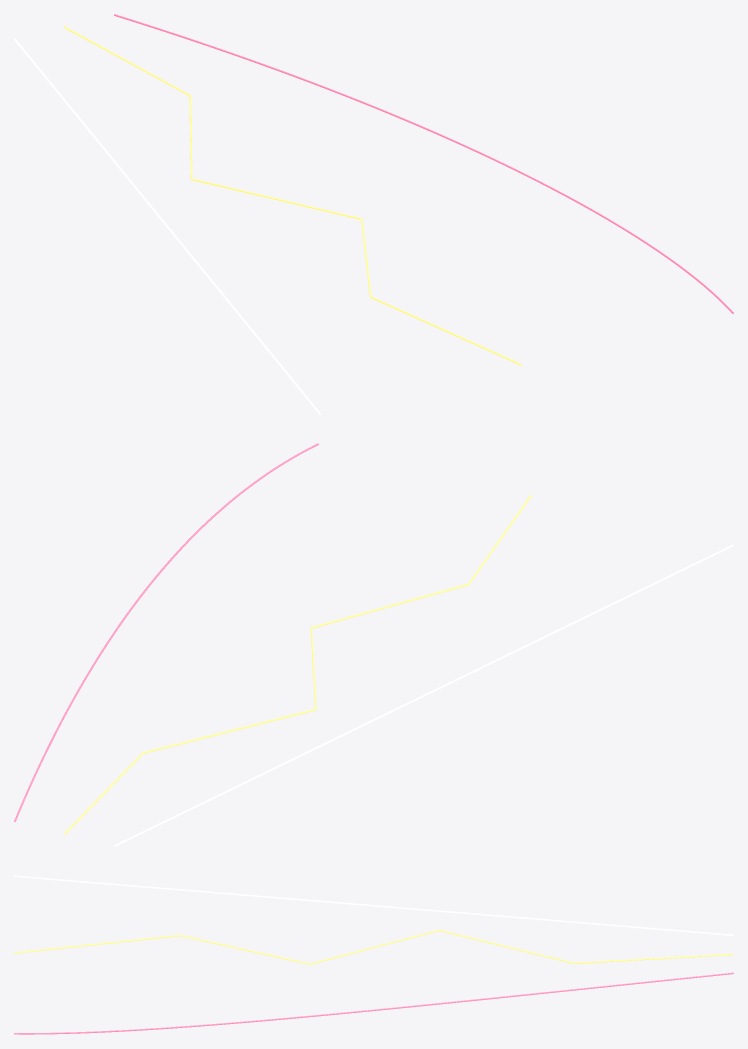
Rendered from dreamweaver-strands.glb.
3 renders of one model, top to bottom at view 1: azimuth 30°, elevation 25°; view 2: azimuth 150°, elevation 25°; view 3: azimuth 270°, elevation 25°, orthographic. The views are drawn at different scales.
Visible parts, largest first — view 1: Ambition_FILAMENT_MESH, Shadow_FILAMENT_MESH, Light_FILAMENT_MESH; view 2: Light_FILAMENT_MESH, Shadow_FILAMENT_MESH, Ambition_FILAMENT_MESH; view 3: Light_FILAMENT_MESH, Ambition_FILAMENT_MESH, Shadow_FILAMENT_MESH.
Boxes of the visible parts, left/top/right/bottom form: Ambition_FILAMENT_MESH: left=114, top=14, right=733, bottom=313; Shadow_FILAMENT_MESH: left=64, top=26, right=522, bottom=365; Light_FILAMENT_MESH: left=14, top=38, right=320, bottom=414; Light_FILAMENT_MESH: left=114, top=544, right=733, bottom=846; Shadow_FILAMENT_MESH: left=64, top=495, right=531, bottom=834; Ambition_FILAMENT_MESH: left=14, top=443, right=318, bottom=821; Light_FILAMENT_MESH: left=14, top=875, right=733, bottom=935; Ambition_FILAMENT_MESH: left=14, top=972, right=733, bottom=1034; Shadow_FILAMENT_MESH: left=14, top=929, right=733, bottom=964.
Bounding box in the file's own units: 6.13 × 0.1629 × 11.69.
